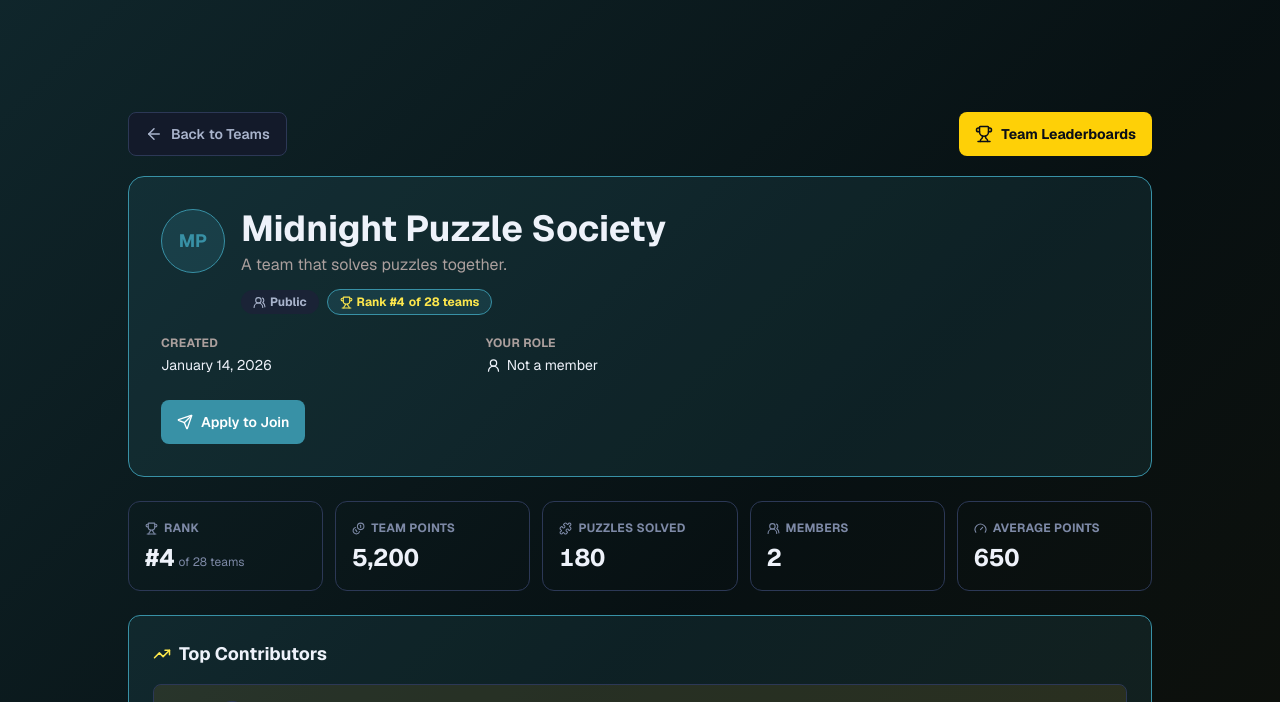
it: Team Detail page — action deck and theme picker (Pass 16B.1) › 80. already-pending behavior preserves exact modal copy
What coordinates should you click on to do the following:
click the button "Apply to Join"
I would click on:
 (233, 422)
Its box is [161,400,306,444].
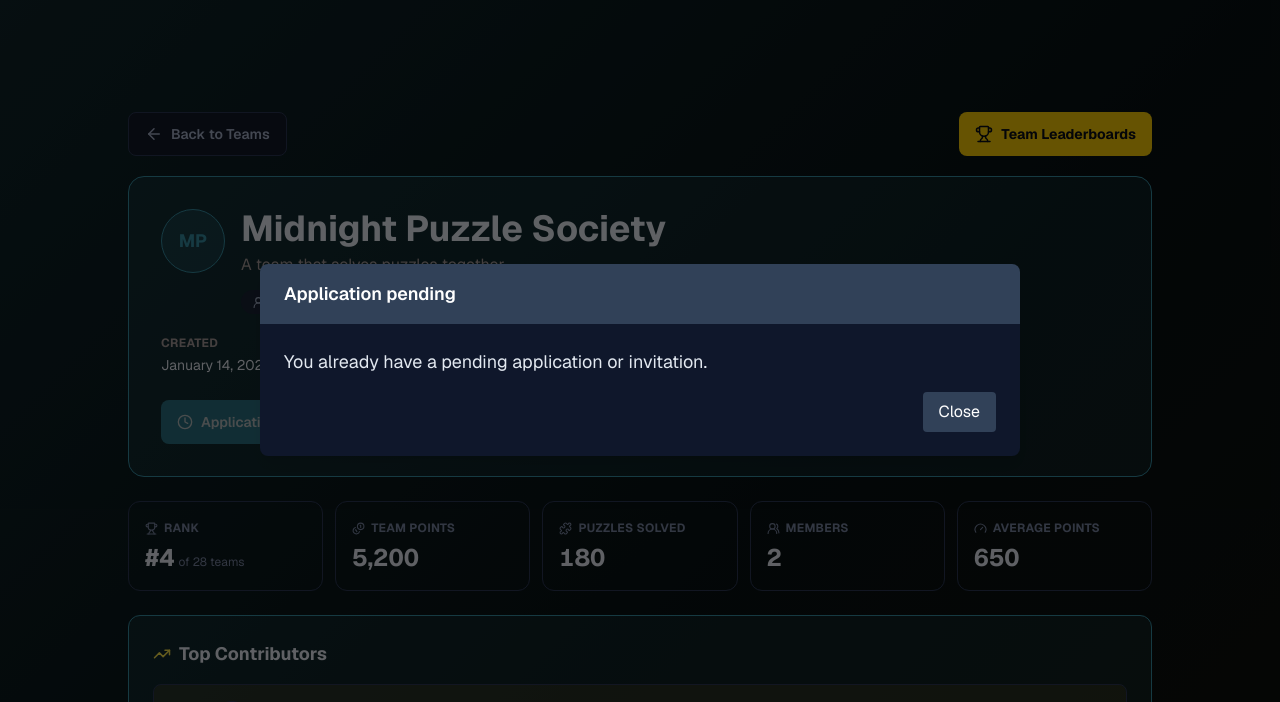
Check: the heading "Application pending" is shown, box [284,282,456,305]
Check: the text "You already have a pending application or invitation." is shown, box [284,350,707,373]
